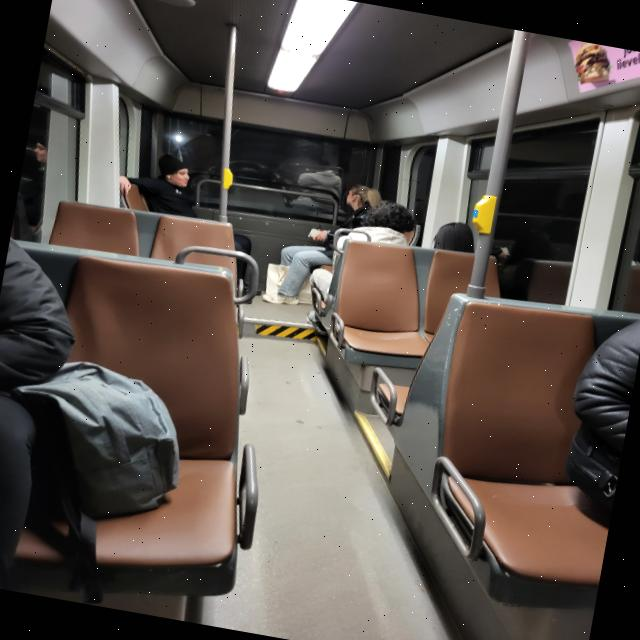empty-seat-frontal: (417, 297, 640, 604), (313, 228, 448, 376)
